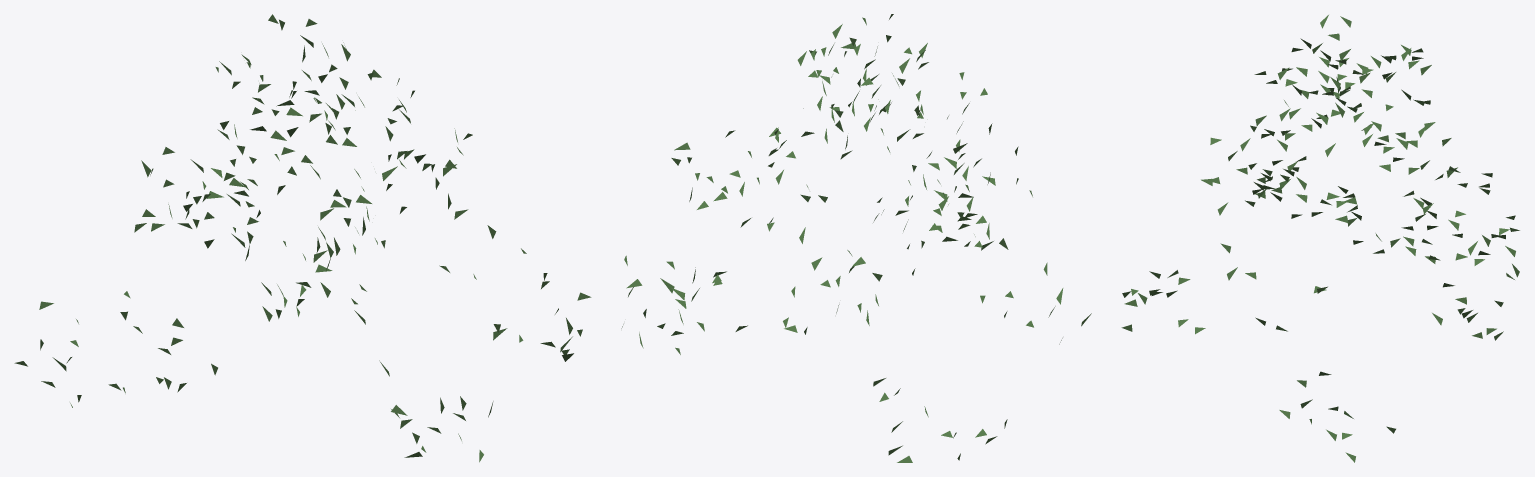
Rendered from teaching3-vegetation-08-far.glb.
3 views of the same model, side by side, from view 1: azimuth 30°, elevation 25°; view 2: azimuth 150°, elevation 25°; view 3: azimuth 270°, elevation 25° (orthographic). The views are drawn at different scales.
Parts seen in each view (by area): view 1: vegetation cedar leaves.002; view 2: vegetation cedar leaves.002; view 3: vegetation cedar leaves.002.
Part boxes in pixels (x1,y1,x2,y2): vegetation cedar leaves.002: [14, 14, 591, 462]; vegetation cedar leaves.002: [621, 14, 1091, 462]; vegetation cedar leaves.002: [1121, 15, 1519, 462].
Bounding box in the file's own units: 11.18 × 8.71 × 9.41.
